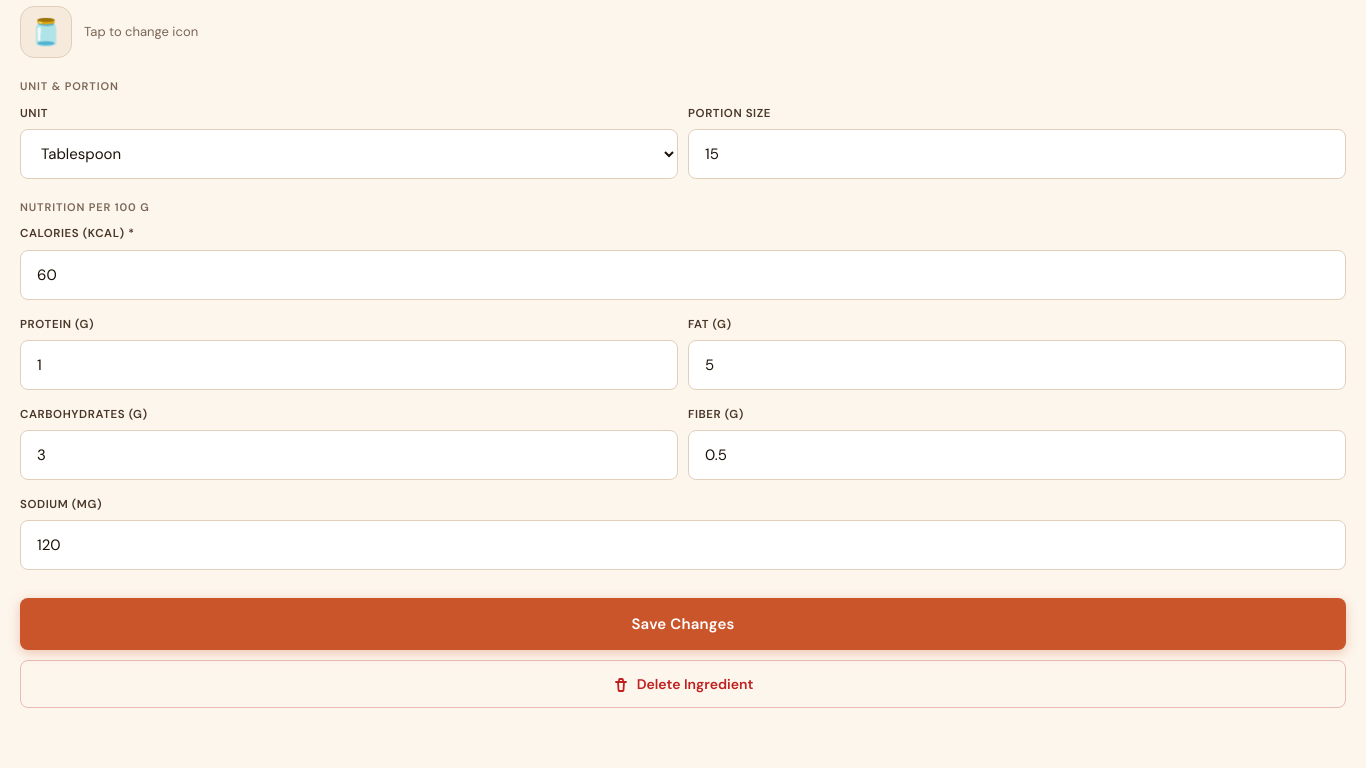
Scenario: CustomIngredientFormPage — delete flow › opens confirmation dialog on delete button click
The width and height of the screenshot is (1366, 768).
(page scrolled)
Click the button labelled "Delete Ingredient" at [683, 684], box [20, 660, 1346, 708]
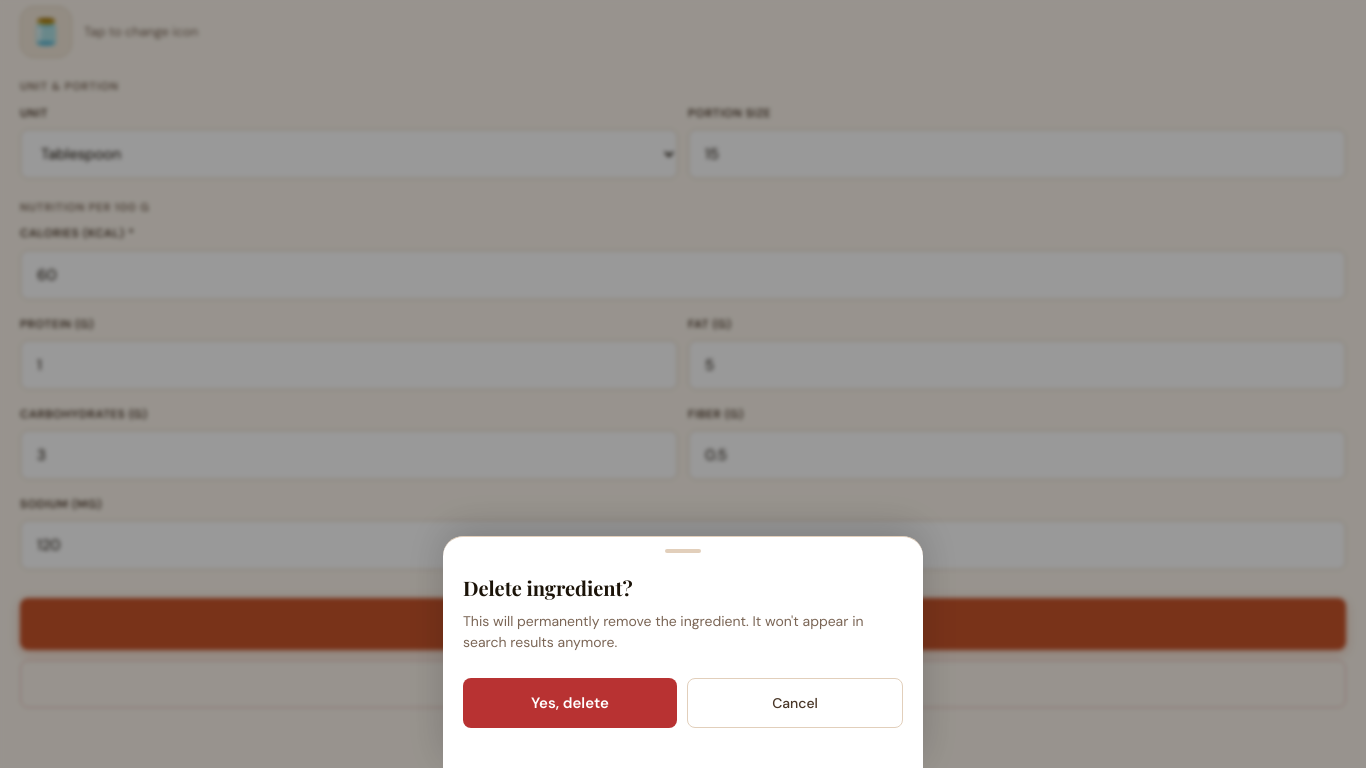
Check: the dialog is shown, box [443, 536, 923, 767]
Check: the heading "Delete ingredient?" is shown, box [463, 574, 633, 601]
